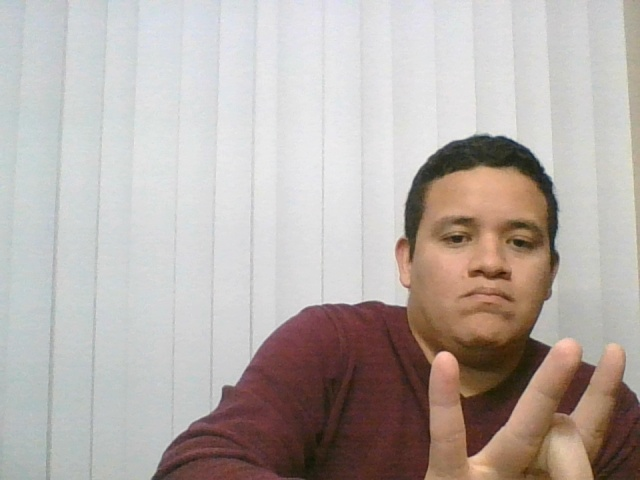Eight: (387, 326, 626, 477)
